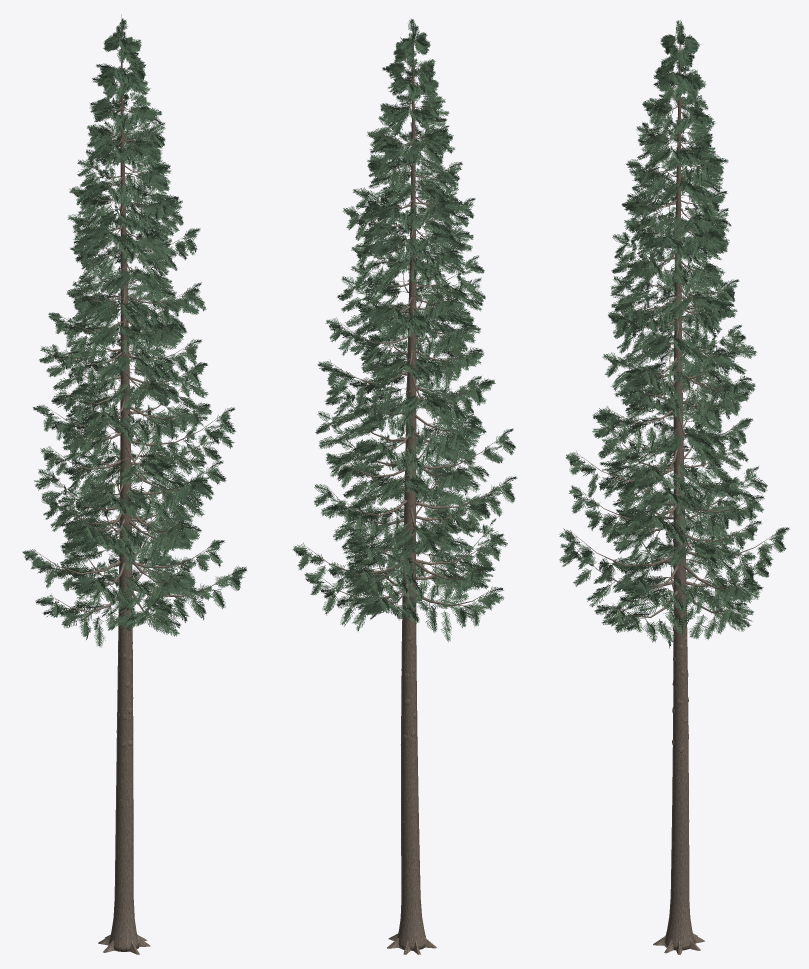
Rendered from Sitka_Mature_Benchmark_01_HighPruned_Healed_LOD0.fbx.
3 renders of one model, left to right at view 1: azimuth 30°, elevation 25°; view 2: azimuth 150°, elevation 25°; view 3: azimuth 270°, elevation 25°, orthographic.
Parts seen in each view (by area): view 1: Sitka_Mature_Benchmark_01_HighPruned_Healed_LOD0_Foliage, Sitka_Mature_Benchmark_01_HighPruned_Healed_LOD0_Trunk, Sitka_Mature_Benchmark_01_HighPruned_Healed_LOD0_Branches; view 2: Sitka_Mature_Benchmark_01_HighPruned_Healed_LOD0_Foliage, Sitka_Mature_Benchmark_01_HighPruned_Healed_LOD0_Trunk, Sitka_Mature_Benchmark_01_HighPruned_Healed_LOD0_Branches; view 3: Sitka_Mature_Benchmark_01_HighPruned_Healed_LOD0_Foliage, Sitka_Mature_Benchmark_01_HighPruned_Healed_LOD0_Trunk, Sitka_Mature_Benchmark_01_HighPruned_Healed_LOD0_Branches.
Boxes of the visible parts, box(x1,y1,x2,y2) form: Sitka_Mature_Benchmark_01_HighPruned_Healed_LOD0_Foliage: box(22, 18, 246, 647); Sitka_Mature_Benchmark_01_HighPruned_Healed_LOD0_Trunk: box(98, 14, 150, 954); Sitka_Mature_Benchmark_01_HighPruned_Healed_LOD0_Branches: box(34, 35, 234, 621); Sitka_Mature_Benchmark_01_HighPruned_Healed_LOD0_Foliage: box(292, 19, 517, 641); Sitka_Mature_Benchmark_01_HighPruned_Healed_LOD0_Trunk: box(387, 19, 436, 954); Sitka_Mature_Benchmark_01_HighPruned_Healed_LOD0_Branches: box(306, 38, 504, 613); Sitka_Mature_Benchmark_01_HighPruned_Healed_LOD0_Foliage: box(559, 20, 789, 648); Sitka_Mature_Benchmark_01_HighPruned_Healed_LOD0_Trunk: box(653, 20, 704, 954); Sitka_Mature_Benchmark_01_HighPruned_Healed_LOD0_Branches: box(572, 35, 777, 623).
Bounding box in the file's own units: 580 × 2600 × 615.
